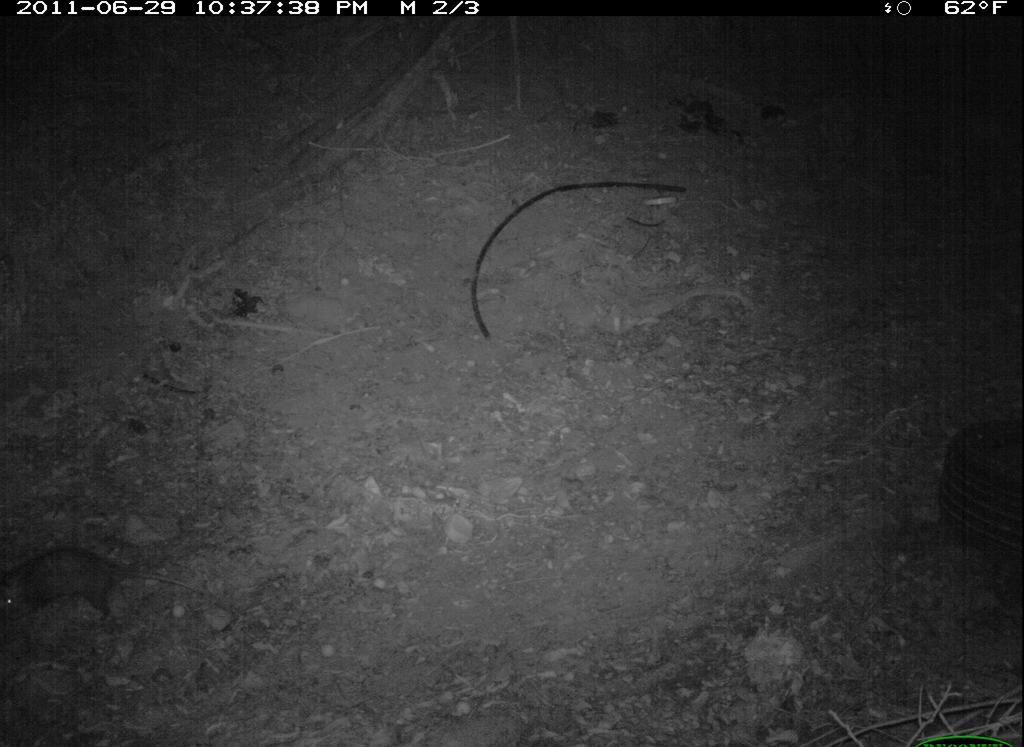opossum: (3, 542, 233, 639)
